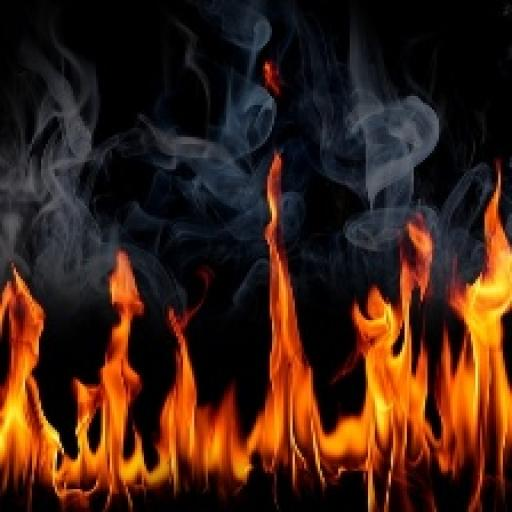fire and smoke: (0, 153, 510, 510), (9, 66, 91, 233), (350, 96, 434, 199), (158, 133, 261, 208), (245, 87, 274, 146)
